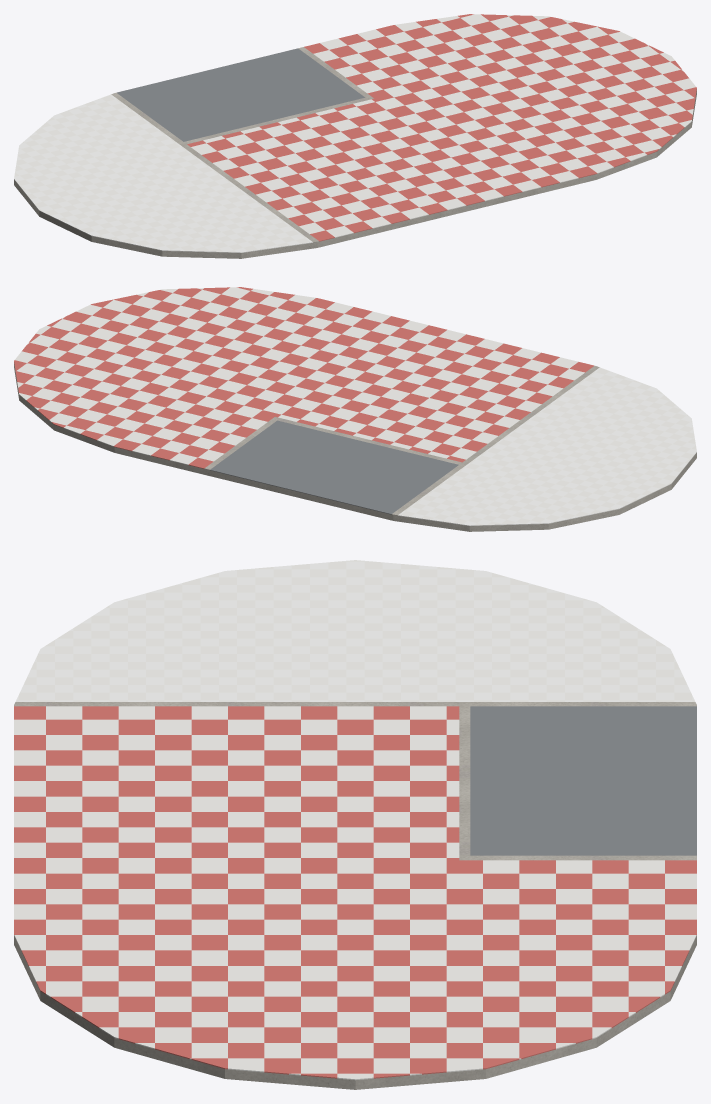
Rendered from floor.glb.
3 views of the same model, one above another, from view 1: azimuth 30°, elevation 25°; view 2: azimuth 150°, elevation 25°; view 3: azimuth 270°, elevation 25° (orthographic). The views are drawn at different scales.
Visible parts, largest first — view 1: floor_tile, floor_tile_k, floor_porcelain, floor_steel_d, floor_concrete; view 2: floor_tile, floor_tile_k, floor_porcelain, floor_steel_d, floor_concrete; view 3: floor_tile, floor_tile_k, floor_porcelain, floor_steel_d, floor_concrete.
Part boxes in pixels (x1,y1,x2,y2): floor_tile: [14, 14, 695, 252]; floor_tile_k: [187, 14, 696, 241]; floor_porcelain: [14, 95, 311, 252]; floor_steel_d: [117, 48, 364, 141]; floor_concrete: [14, 47, 696, 258]; floor_tile: [15, 287, 696, 525]; floor_tile_k: [14, 287, 593, 468]; floor_porcelain: [399, 368, 696, 525]; floor_steel_d: [210, 420, 458, 514]; floor_concrete: [14, 362, 696, 531]; floor_tile: [14, 560, 696, 1080]; floor_tile_k: [14, 706, 696, 1078]; floor_porcelain: [16, 561, 694, 701]; floor_steel_d: [470, 706, 696, 855]; floor_concrete: [14, 702, 696, 1089].
Size of the model in its own units: 13.49 by 0.13 by 7.5.
Materials: 5 (1 with a texture image).
